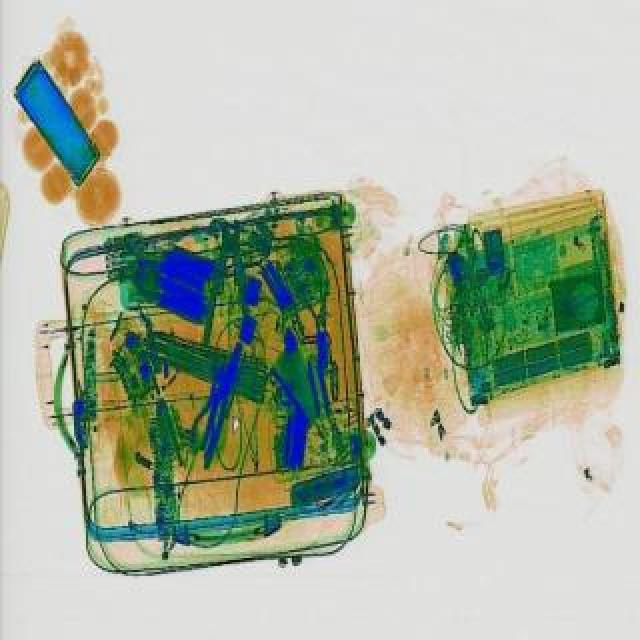wrench: (200, 224, 252, 350), (198, 342, 250, 468), (188, 368, 228, 462)
